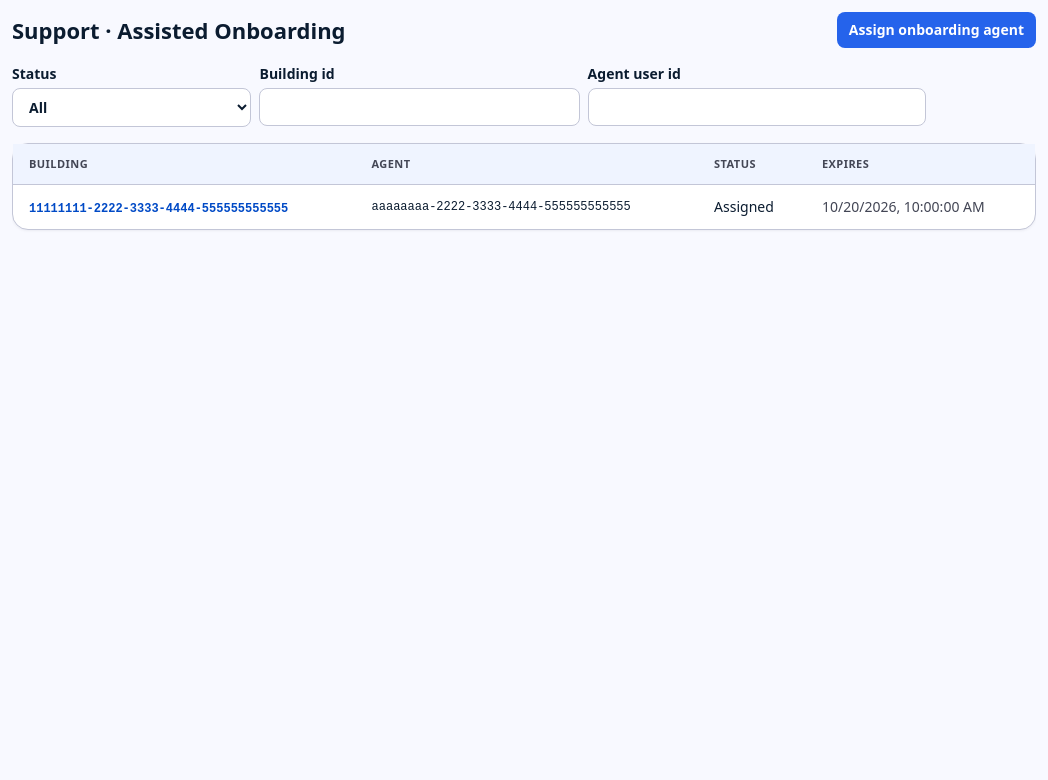
Test case: OnboardingSessionsScreen › lets an operator complete a session and shows the backend result
Click the button "11111111-2222-3333-4444-555555555555": click(159, 209) top-left (29, 201), bottom-right (288, 217)
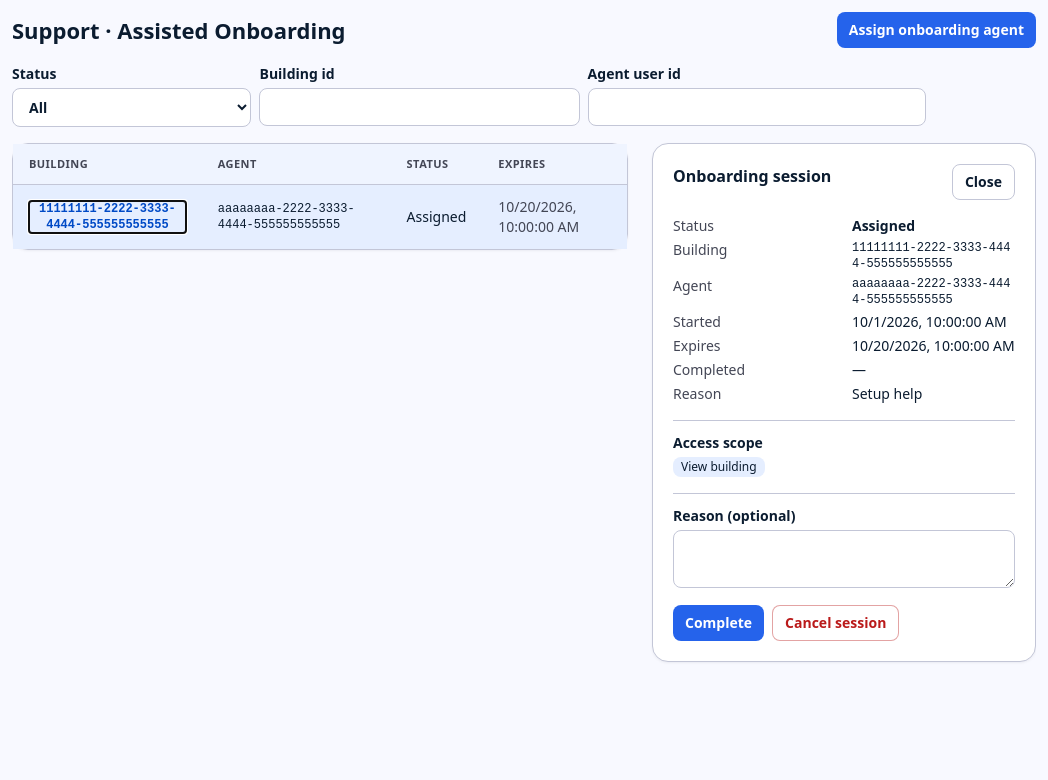
Click the button "Complete": click(719, 623) top-left (673, 605), bottom-right (764, 641)
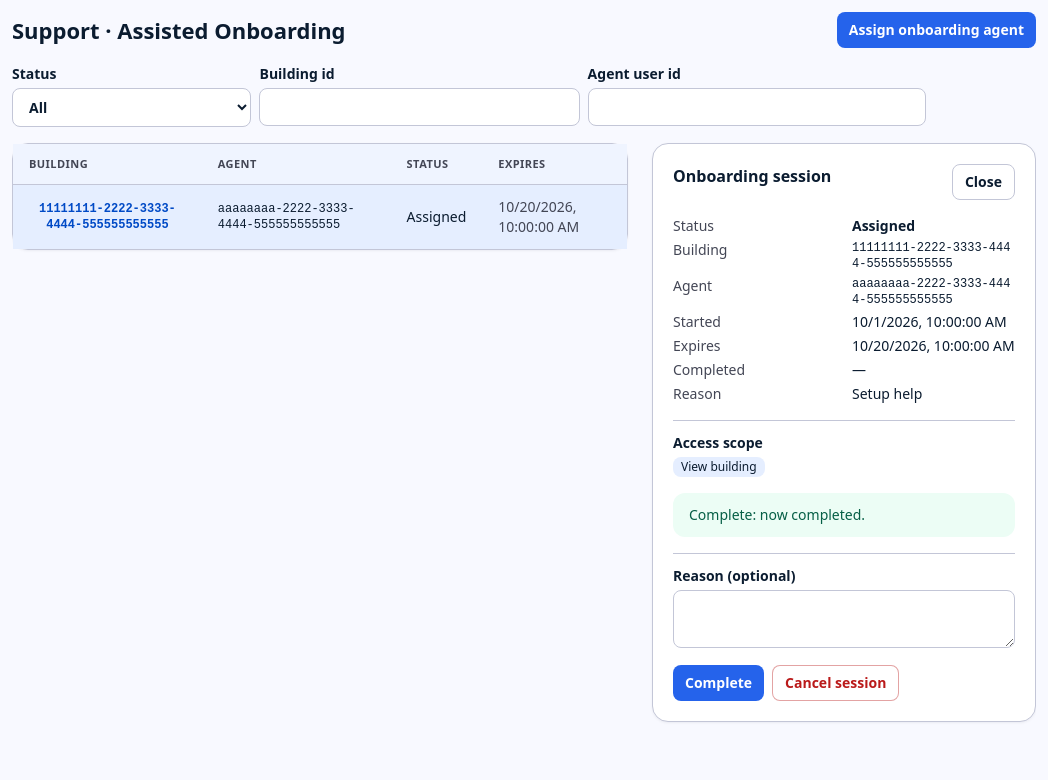
expect the text "Complete: now completed." is shown: met, box top-left (673, 493), bottom-right (1015, 537)
